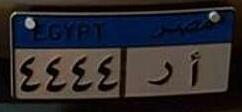4: (67, 52, 94, 95), (93, 52, 119, 93), (43, 53, 67, 94), (16, 53, 40, 93)
alif: (183, 49, 203, 90)
raa: (143, 57, 174, 89)
